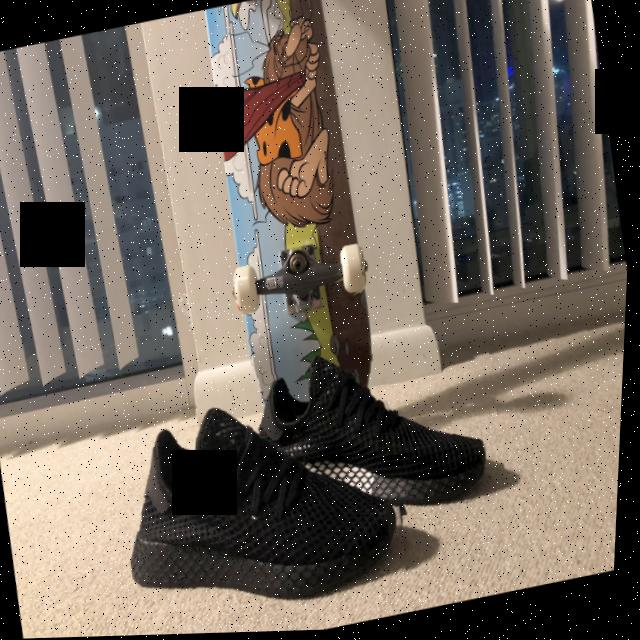shoe: (107, 360, 429, 637), (231, 317, 519, 548)
